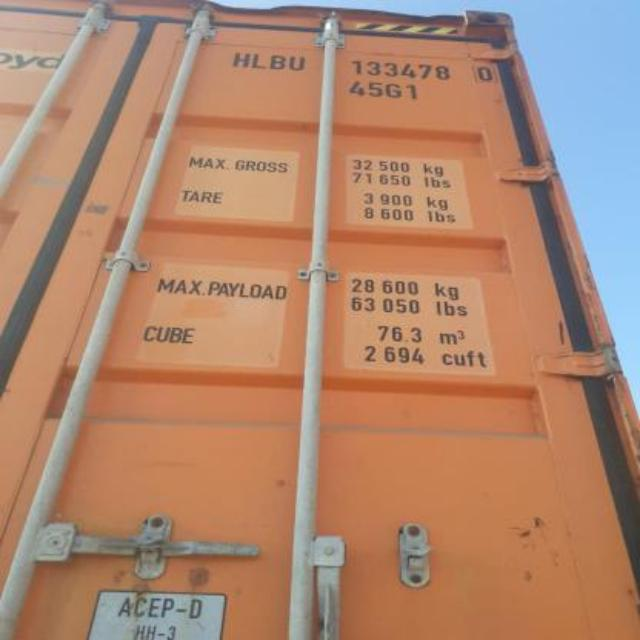0: (472, 62, 498, 86)
1: (350, 54, 366, 76)
3: (381, 54, 399, 80), (366, 54, 382, 78)
4: (399, 59, 417, 80)
7: (418, 56, 432, 82)
8: (431, 57, 449, 87)
B: (272, 50, 286, 74)
H: (233, 50, 251, 70)
L: (249, 49, 267, 73)
U: (289, 52, 307, 76)
